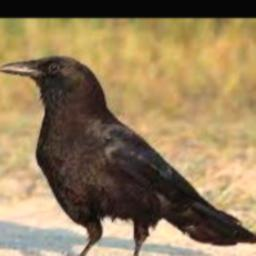Crow: (0, 56, 256, 256)
